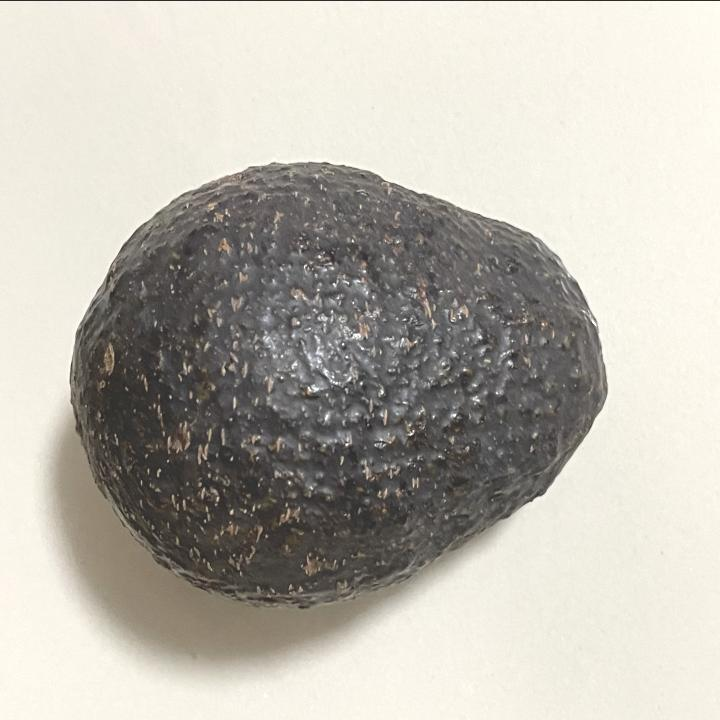Level2: (66, 150, 616, 620)
